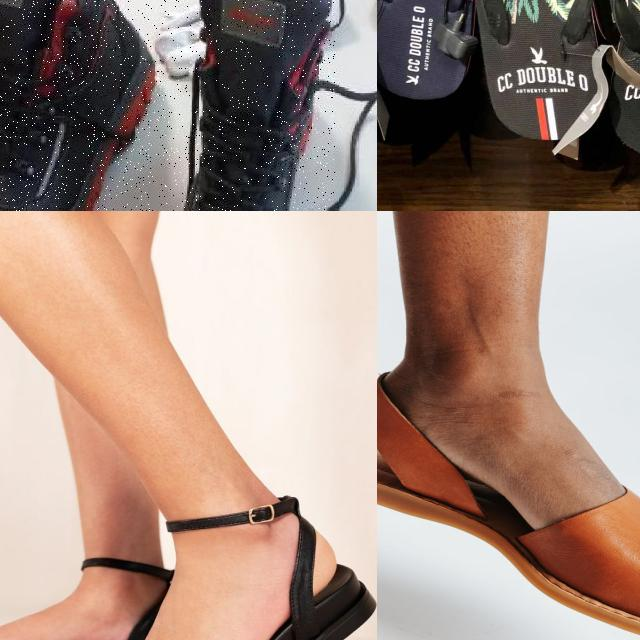Sandals: (377, 346, 640, 640), (64, 493, 376, 640), (449, 0, 640, 198), (377, 0, 485, 113)
boots: (152, 0, 335, 211), (0, 0, 155, 211)
